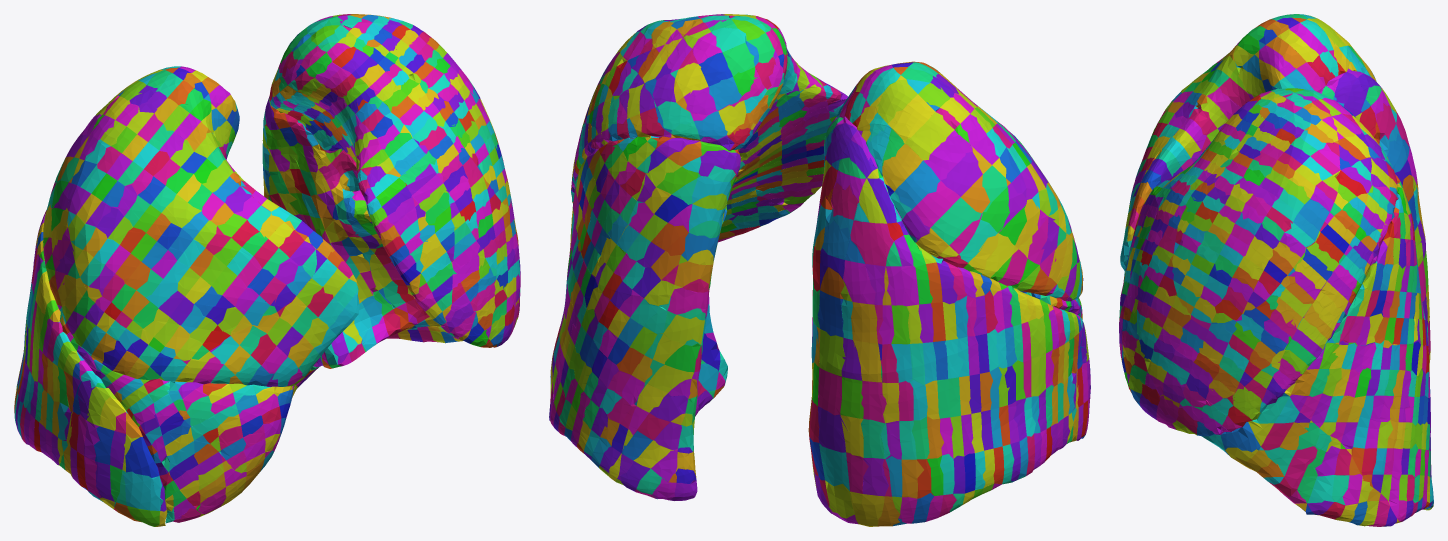
The model's file is lung-female-large.glb.
3 views of the same model, side by side, from view 1: azimuth 30°, elevation 25°; view 2: azimuth 150°, elevation 25°; view 3: azimuth 270°, elevation 25° (orthographic). The views are drawn at different scales.
Parts seen in each view (by area): view 1: VHF_RLL.41630, VHF_RLL.41629, VHF_RLL.41358; view 2: VHF_RUL.3325, VHF_RUL.3326, VHF_RUL.3611, VHF_RUL.3613, VHF_RUL.3612, VHF_RUL.3614, VHF_RLL.41605, VHF_RUL.3324, VHF_RUL.3340, VHF_RLL.41594, VHF_RUL.3327, VHF_RLL.41606 (+43 smaller); view 3: VHF_LLL.7514, VHF_LLL.7123, VHF_LLL.7096, VHF_RUL.3377, VHF_RUL.3401, VHF_RUL.3389, VHF_LLL.7150, VHF_RLL.41904, VHF_LLL.7163, VHF_RLL.42172, VHF_RUL.3435, VHF_RLL.41893 (+28 smaller).
Boxes of the visible parts, bbox=[...] form: VHF_RLL.41630: bbox=[123, 471, 163, 510]; VHF_RLL.41629: bbox=[125, 437, 159, 477]; VHF_RLL.41358: bbox=[87, 386, 116, 425]; VHF_RUL.3325: bbox=[923, 130, 972, 180]; VHF_RUL.3326: bbox=[905, 112, 954, 160]; VHF_RUL.3611: bbox=[931, 197, 981, 245]; VHF_RUL.3613: bbox=[895, 160, 940, 209]; VHF_RUL.3612: bbox=[912, 180, 960, 227]; VHF_RUL.3614: bbox=[882, 144, 922, 191]; VHF_RLL.41605: bbox=[843, 260, 875, 304]; VHF_RUL.3324: bbox=[941, 149, 982, 196]; VHF_RUL.3340: bbox=[877, 79, 917, 123]; VHF_RLL.41594: bbox=[850, 220, 885, 266]; VHF_RUL.3327: bbox=[892, 102, 935, 143]; VHF_RLL.41606: bbox=[851, 302, 877, 343]; VHF_LLL.7514: bbox=[1220, 422, 1260, 452]; VHF_LLL.7123: bbox=[1284, 446, 1317, 478]; VHF_LLL.7096: bbox=[1307, 475, 1334, 503]; VHF_RUL.3377: bbox=[1277, 29, 1318, 62]; VHF_RUL.3401: bbox=[1259, 45, 1295, 76]; VHF_RUL.3389: bbox=[1266, 36, 1306, 68]; VHF_LLL.7150: bbox=[1261, 422, 1293, 450]; VHF_RLL.41904: bbox=[1387, 133, 1407, 172]; VHF_LLL.7163: bbox=[1252, 396, 1289, 423]; VHF_RLL.42172: bbox=[1345, 78, 1366, 116]; VHF_RUL.3435: bbox=[1219, 77, 1250, 107]; VHF_RLL.41893: bbox=[1376, 103, 1395, 140].
Size of the model in its own units: 0.2506 by 0.2221 by 0.1527.
